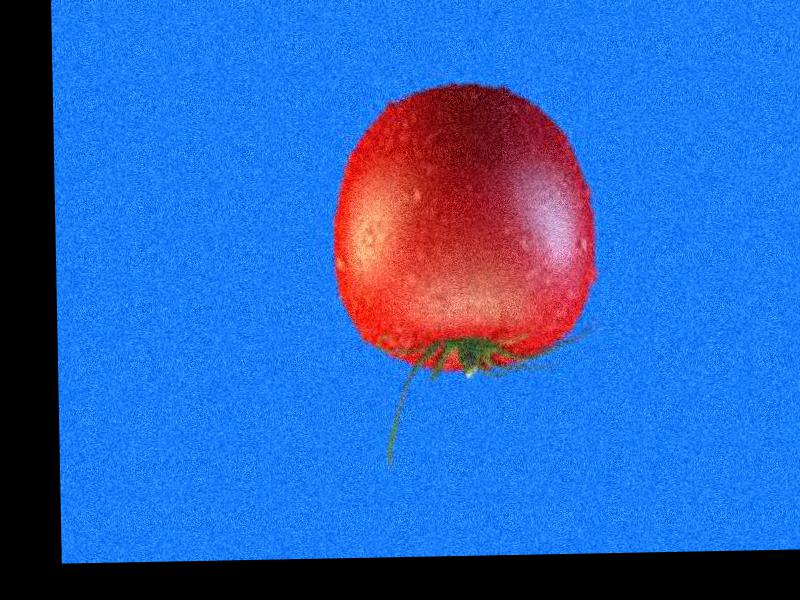Tomato: (330, 81, 600, 375)
